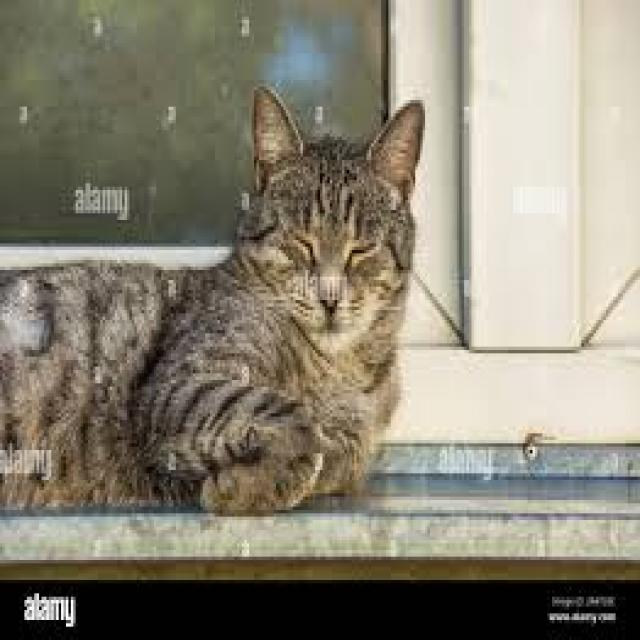Cat: (3, 83, 431, 518)
